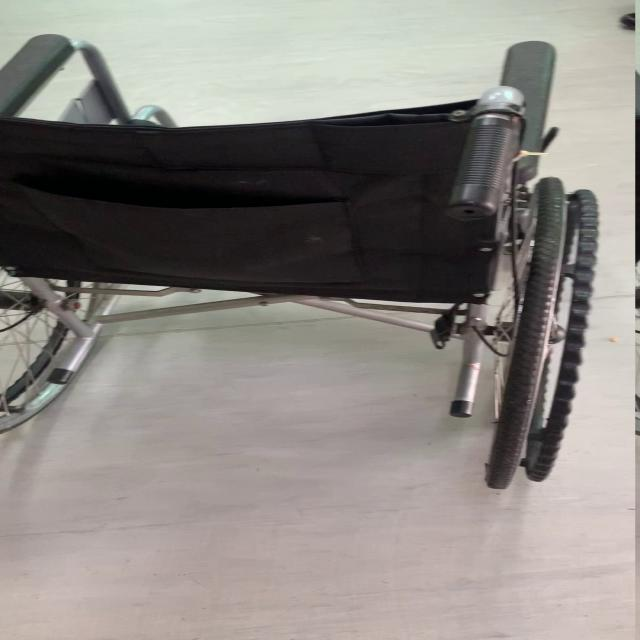wheelchair: (1, 25, 640, 490)
